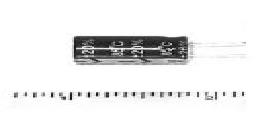Electrolytic-Capacitor: (67, 34, 252, 68)
